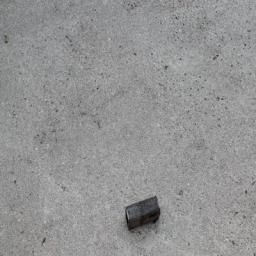FOD: (122, 194, 163, 234)
